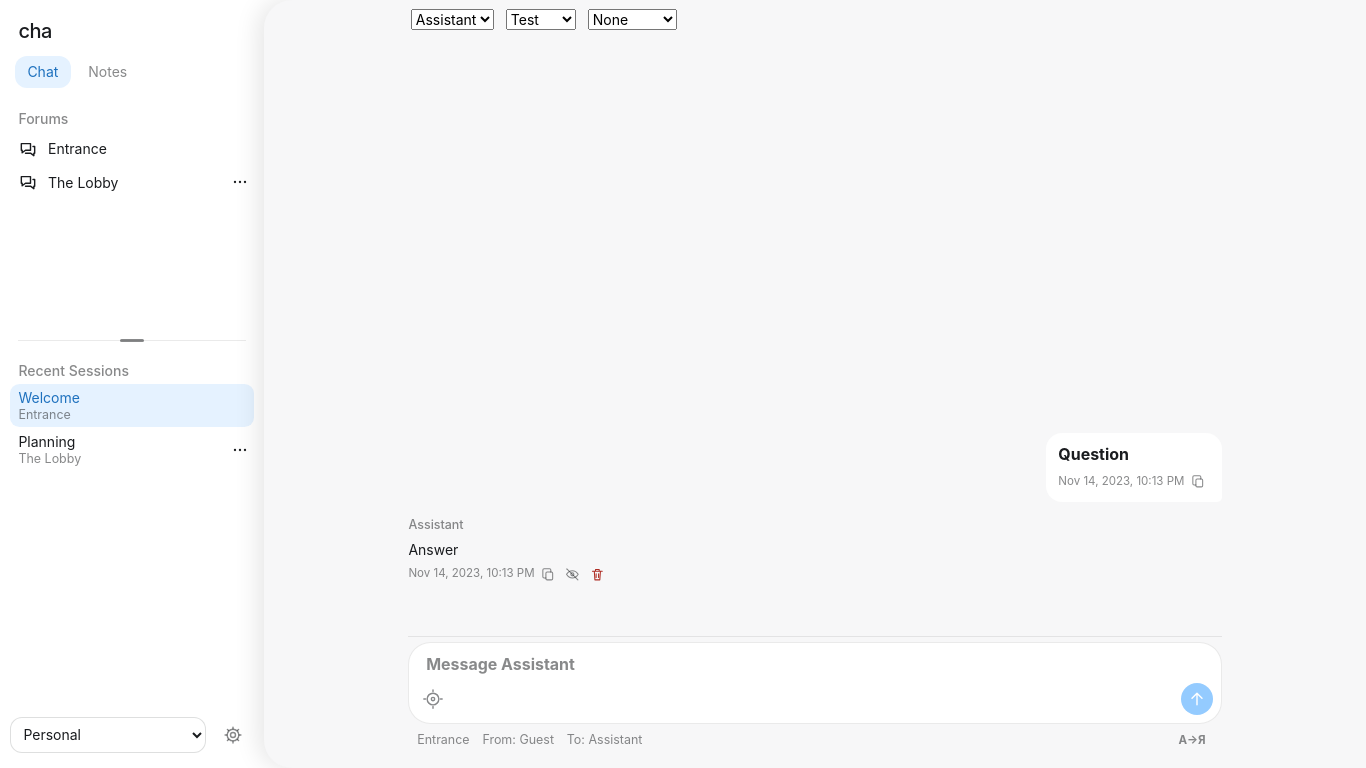
Test: live chat › deletes a response with the prompt that generated it
The image size is (1366, 768).
Expected: the text box labelled "Message" is enabled, x1=417 y1=651 x2=1213 y2=679
Step 1. Click the button named "Delete Assistant's response and its prompt" → click(597, 574), box x1=587 y1=564 x2=608 y2=584
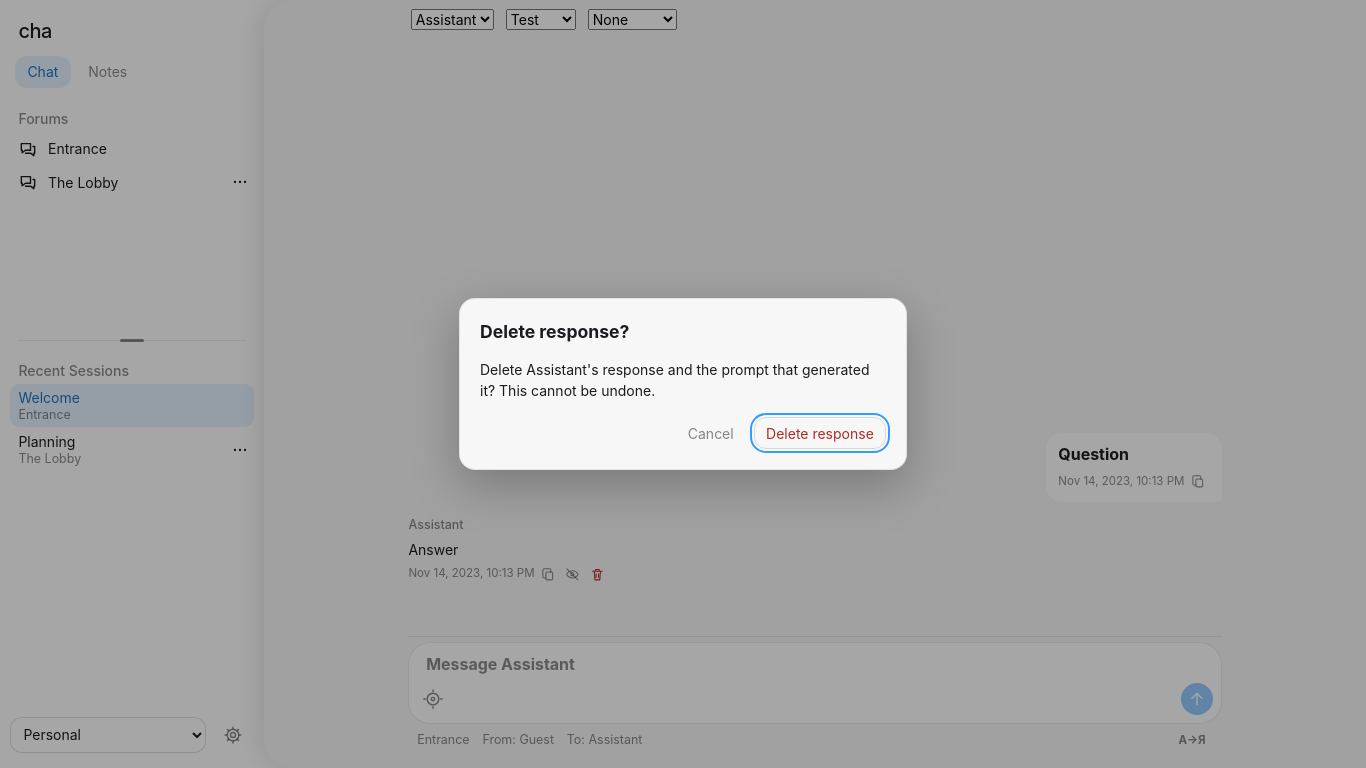
Now the text "This cannot be undone" is shown, box x1=480 y1=361 x2=870 y2=399
Step 2. Click the button "Delete response" → click(820, 433), box x1=754 y1=417 x2=886 y2=449
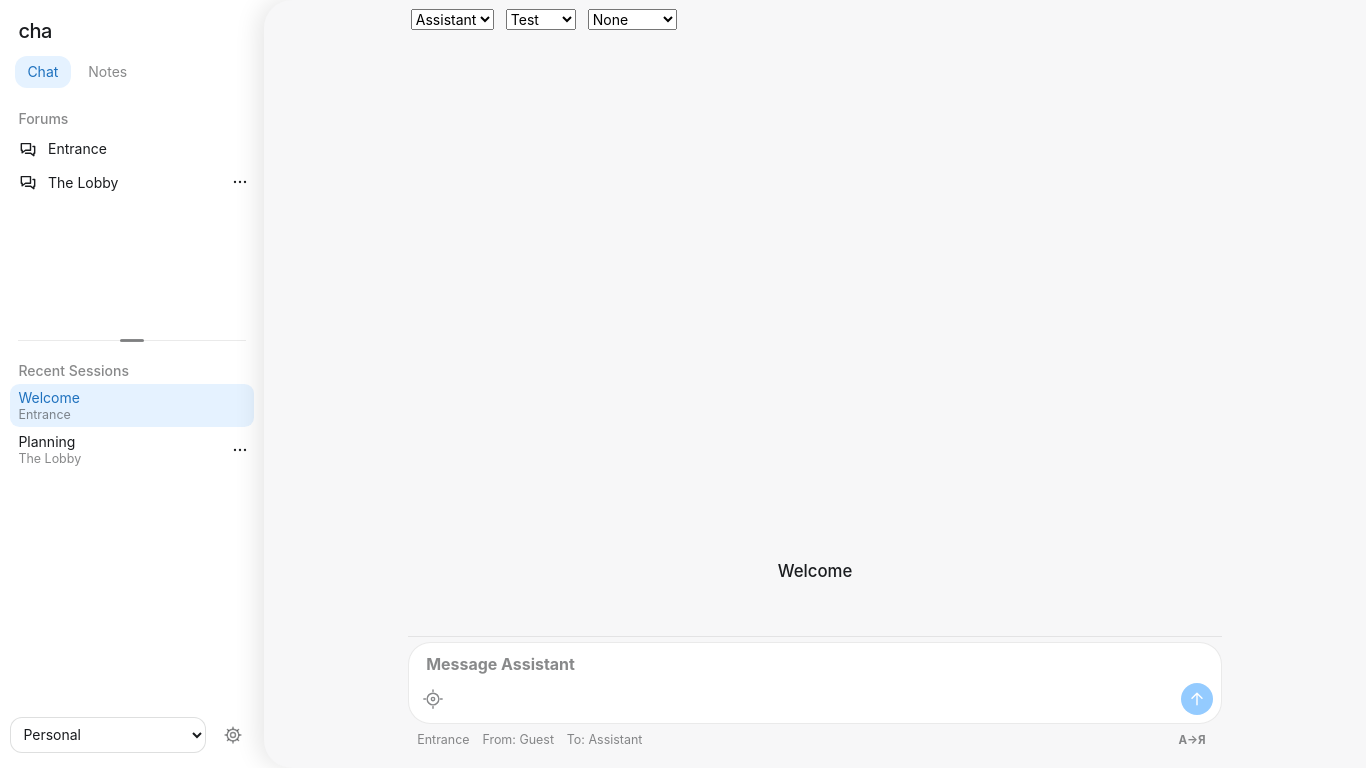
Now the text "Question" is gone
Now the text "Answer" is gone
